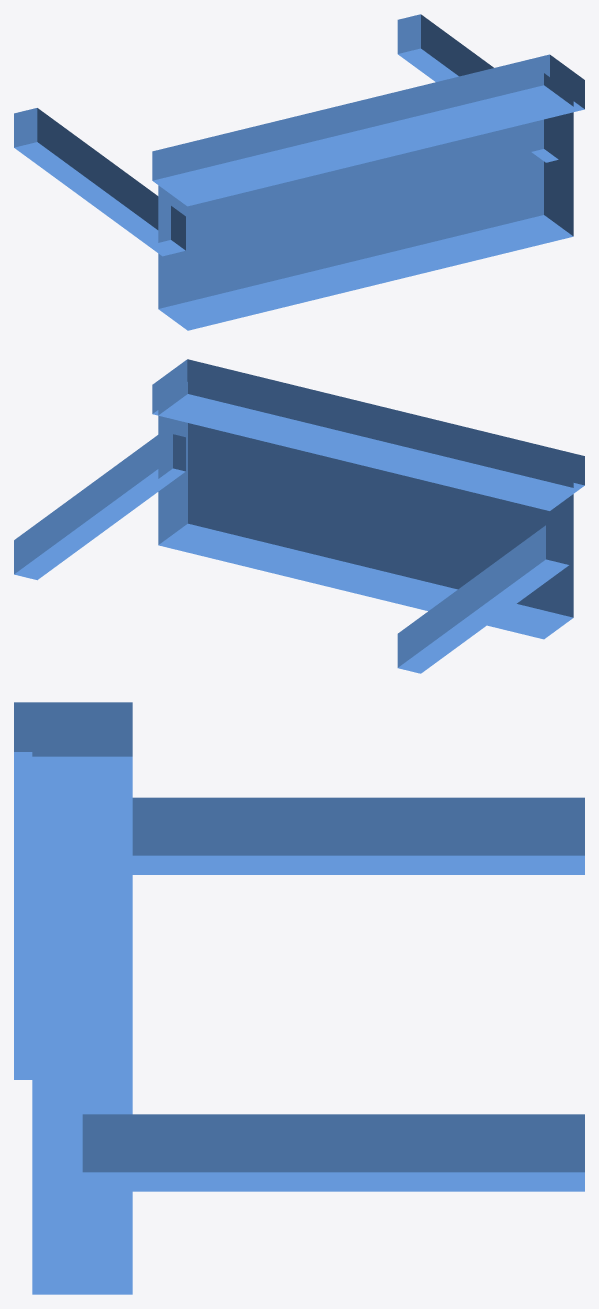
Rendered from workwear_safety_goggles.gltf.
3 renders of one model, top to bottom at view 1: azimuth 30°, elevation 25°; view 2: azimuth 150°, elevation 25°; view 3: azimuth 270°, elevation 25°, orthographic. The views are drawn at different scales.
Parts seen in each view (by area): view 1: workwear_safety_goggles; view 2: workwear_safety_goggles; view 3: workwear_safety_goggles.
Boxes of the visible parts, x1=… form: workwear_safety_goggles: x1=14, y1=14, x2=584, y2=330; workwear_safety_goggles: x1=14, y1=359, x2=584, y2=673; workwear_safety_goggles: x1=14, y1=702, x2=584, y2=1294.
Bounding box in the file's own units: 1.74 × 0.65 × 1.25.
